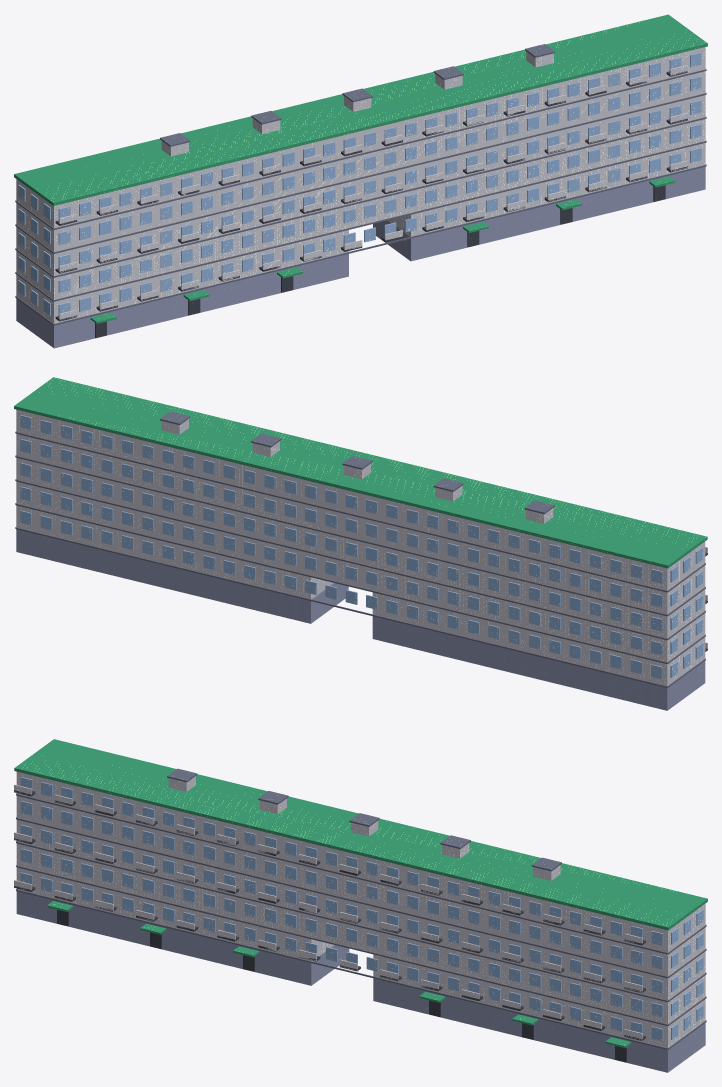
The model's file is panel-7x1-l1.glb.
3 renders of one model, top to bottom at view 1: azimuth 30°, elevation 25°; view 2: azimuth 150°, elevation 25°; view 3: azimuth 330°, elevation 25°, orthographic.
Visible parts, largest first — view 1: panel-7x1-l1; view 2: panel-7x1-l1; view 3: panel-7x1-l1.
Part boxes in pixels (bbox=[...]): panel-7x1-l1: bbox=[14, 14, 707, 348]; panel-7x1-l1: bbox=[14, 377, 707, 710]; panel-7x1-l1: bbox=[14, 739, 707, 1072].
Size of the model in its own units: 13.76 by 3.17 by 1.63.
Materials: 1 (1 with a texture image).
